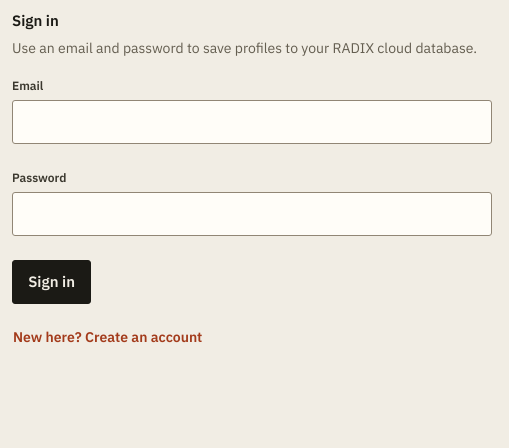
Test case: Supabase sign-in › shows authentication errors without logging credentials
Type "user@example.com" into the field labelled "Email" at [252, 122], box [12, 100, 492, 144]
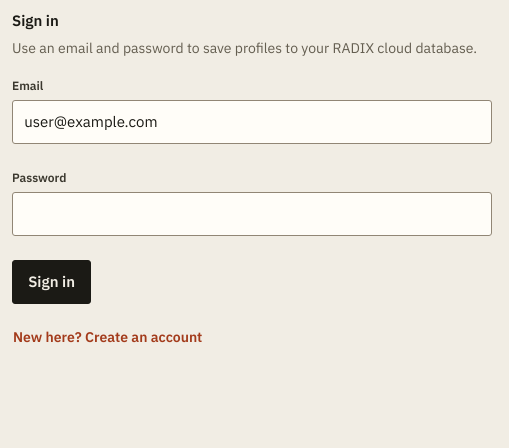
Type "password" into the password field labelled "Password" at [252, 214], box [12, 192, 492, 236]
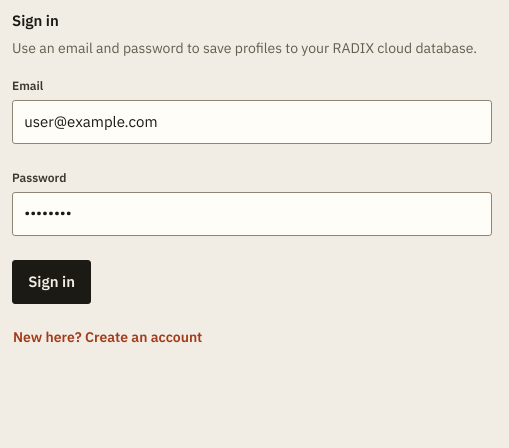
Click the button "Sign in" at [52, 282], box [12, 260, 91, 304]
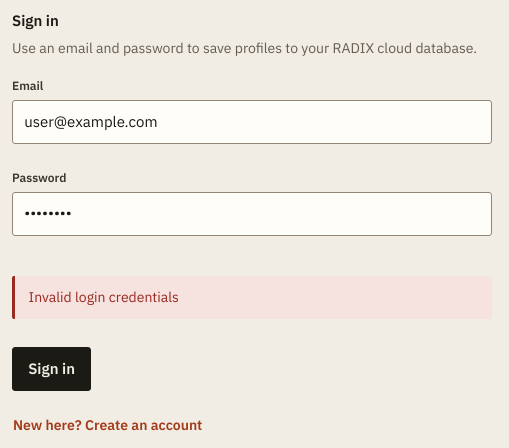
Expected: the message reads "Invalid login credentials", [29, 288, 179, 306]
